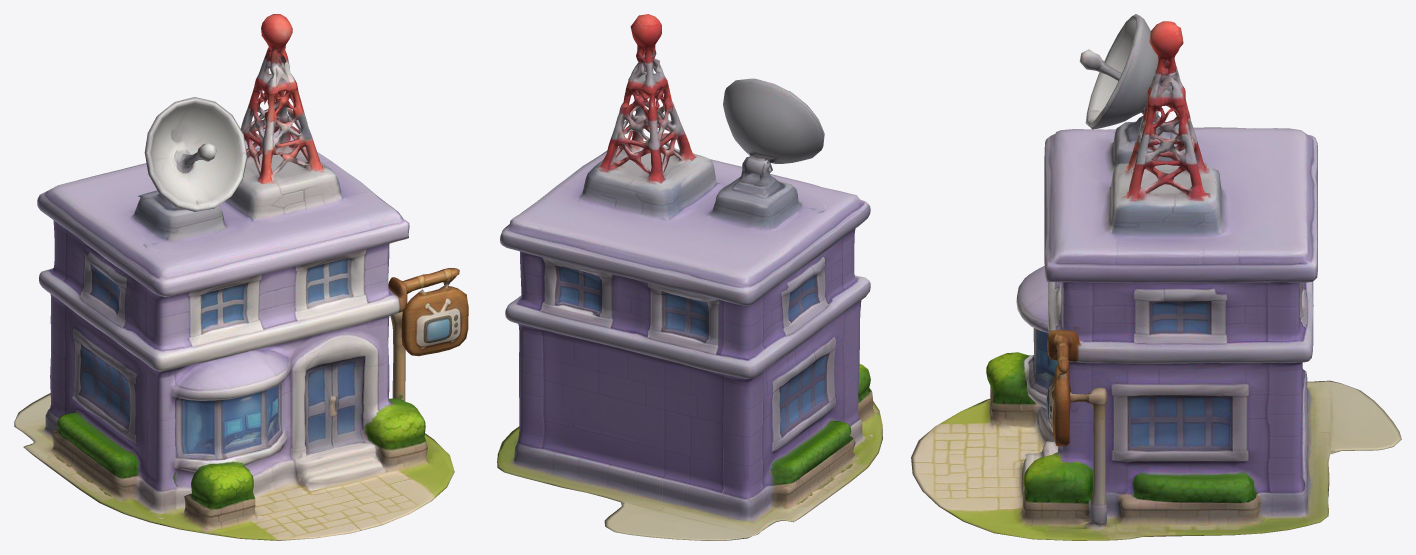
The model's file is 04-radio-tv.glb.
3 views of the same model, side by side, from view 1: azimuth 30°, elevation 25°; view 2: azimuth 150°, elevation 25°; view 3: azimuth 270°, elevation 25° (orthographic). The views are drawn at different scales.
Parts seen in each view (by area): view 1: tripo_node_e4b0652c-fe0e-4ca8-abb5-d76c782172e0; view 2: tripo_node_e4b0652c-fe0e-4ca8-abb5-d76c782172e0; view 3: tripo_node_e4b0652c-fe0e-4ca8-abb5-d76c782172e0.
Part boxes in pixels (x1,y1,x2,y2): tripo_node_e4b0652c-fe0e-4ca8-abb5-d76c782172e0: (14,14,468,540); tripo_node_e4b0652c-fe0e-4ca8-abb5-d76c782172e0: (497,14,882,540); tripo_node_e4b0652c-fe0e-4ca8-abb5-d76c782172e0: (911,14,1401,540).
Bounding box in the file's own units: 0.8324 × 0.9786 × 0.9485.
Materials: 1 (1 with a texture image).
